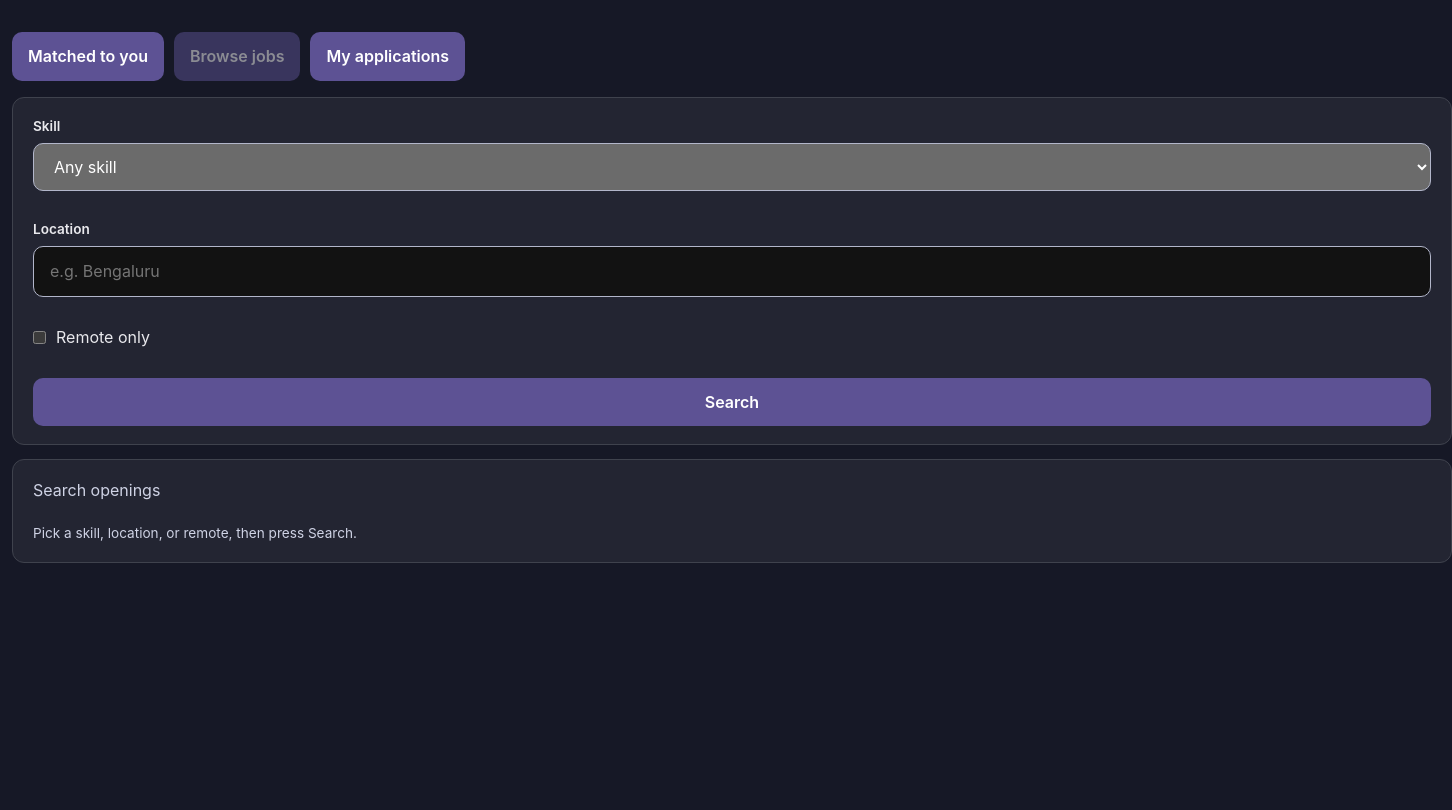
Test case: CandidateJobs — Browse tab band display (new: browse never scored before) › renders no band on Browse for a job absent from /jobs/matched (e.g. the candidate has no verified claim anywhere yet)
The width and height of the screenshot is (1452, 810).
Click the button "Search" at (732, 402), box [33,378,1431,426]
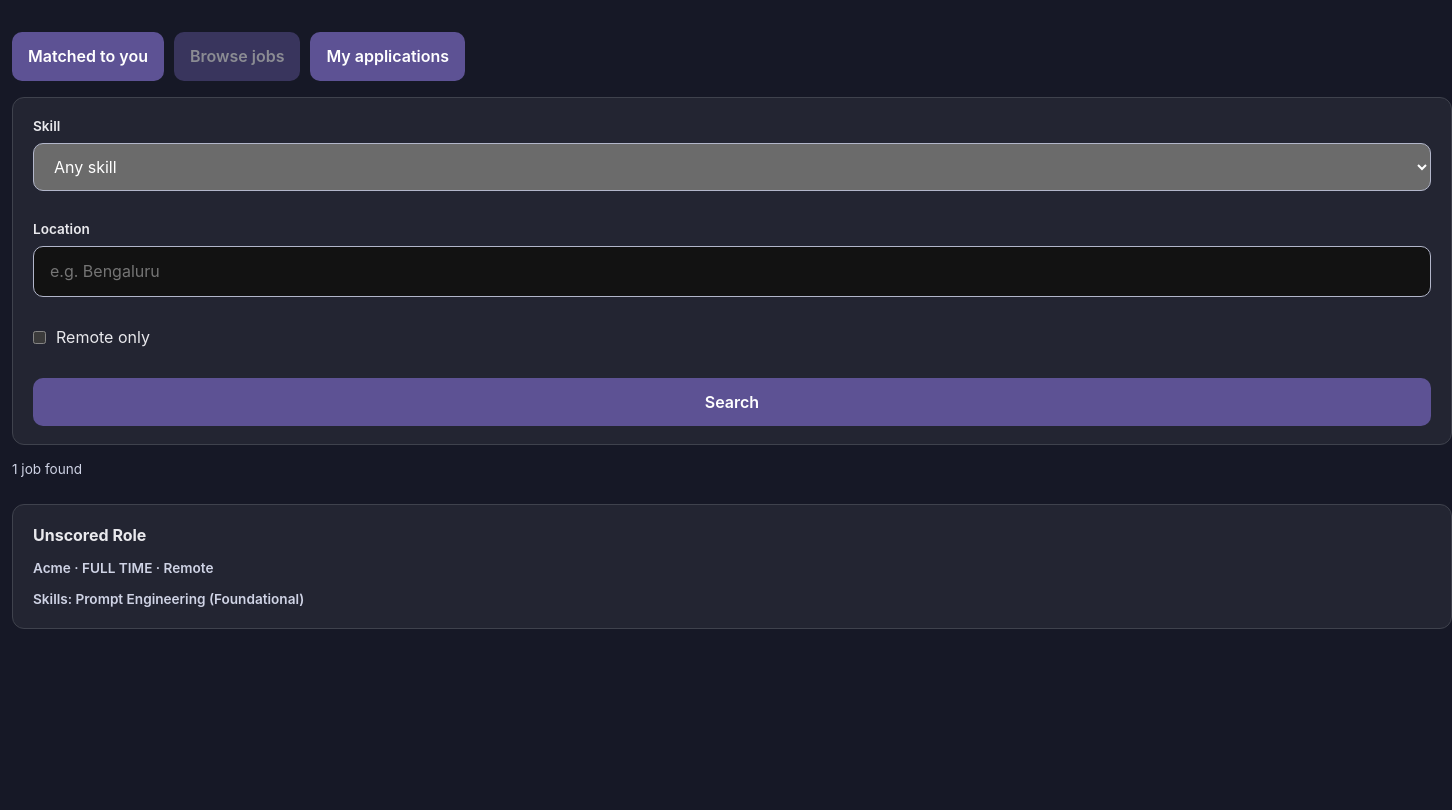
Result: the text "Unscored Role" is shown at [33,523,146,548]
